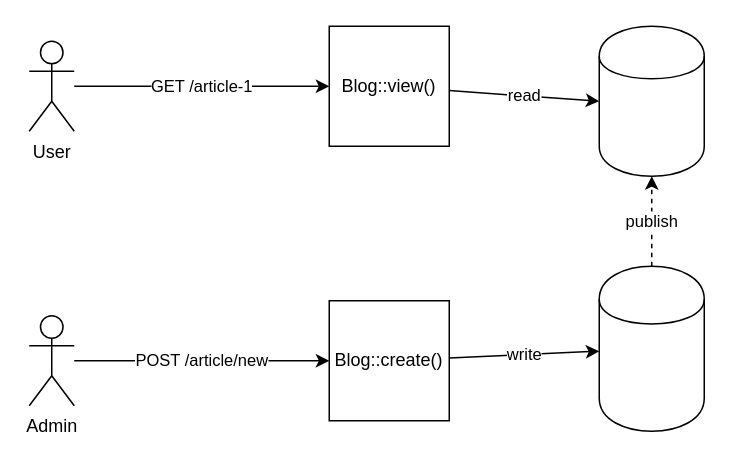
The diagram is 731 pixels wide and 464 high, and some of its shapes have lost their labels. Here are the shapes that lost their labels. From the top down, the centre of each, then its label:
[651,100]: "read database"
[651,348]: "write database"
